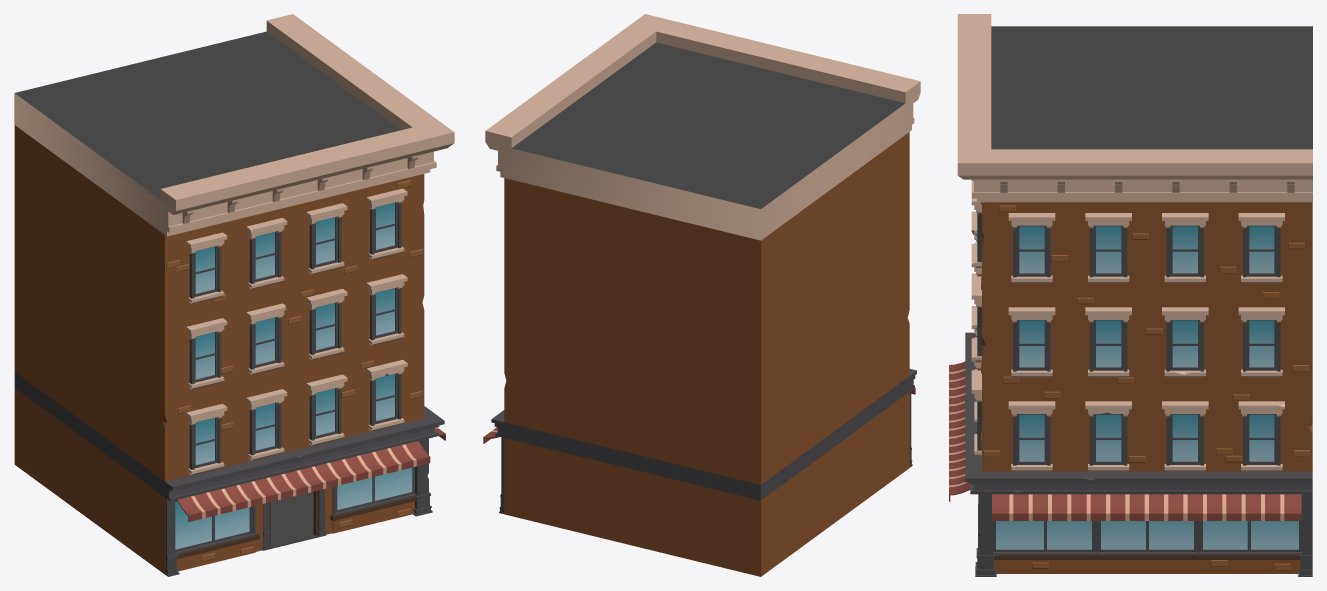
The model's file is SM_Buildings_House_12_V2.fbx.
The picture shows the model from 3 angles, left to right: view 1: azimuth 30°, elevation 25°; view 2: azimuth 150°, elevation 25°; view 3: azimuth 270°, elevation 25°; orthographic projection. The views are drawn at different scales.
Visible parts, largest first — view 1: SM_Buildings_House_12_V2; view 2: SM_Buildings_House_12_V2; view 3: SM_Buildings_House_12_V2.
Boxes of the visible parts, <box> form: SM_Buildings_House_12_V2: <box>14,14,454,576</box>; SM_Buildings_House_12_V2: <box>483,14,920,576</box>; SM_Buildings_House_12_V2: <box>949,14,1312,576</box>.
Size of the model in its own units: 14.06 by 18 by 14.1.
